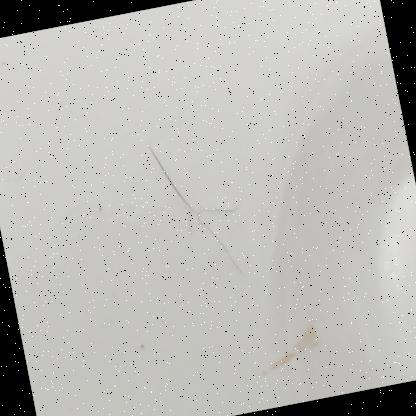Crack: (127, 92, 264, 310)
